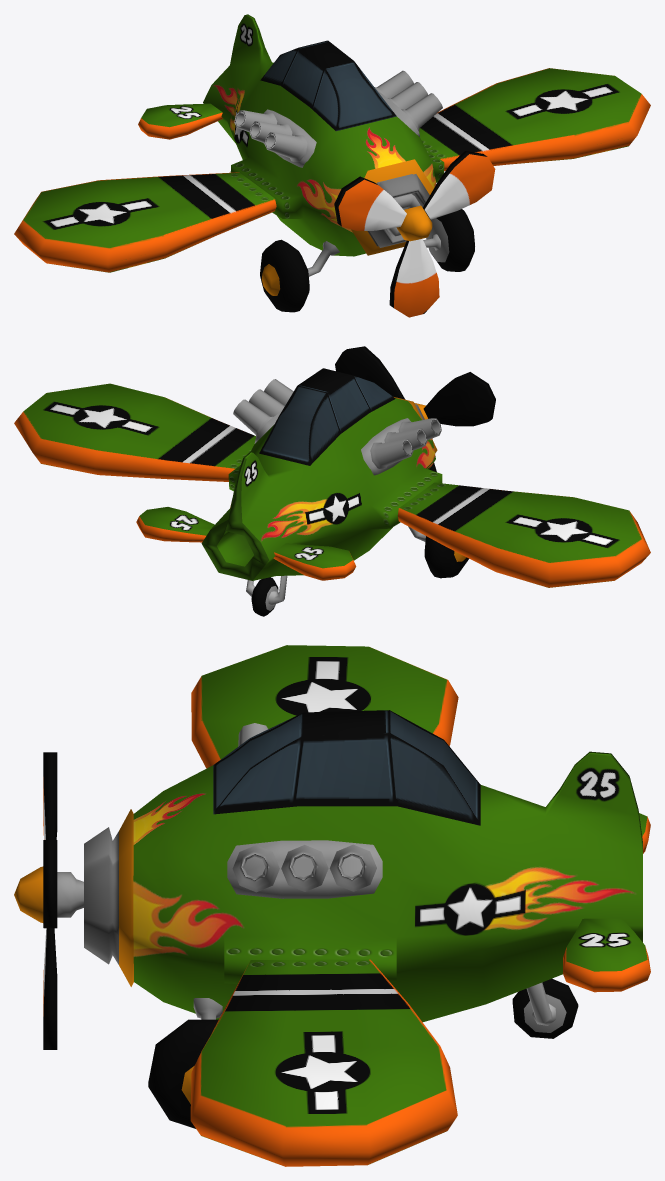
File: toon-plane-racer.fbx
The picture shows the model from 3 angles, top to bottom: view 1: azimuth 30°, elevation 25°; view 2: azimuth 150°, elevation 25°; view 3: azimuth 270°, elevation 25°; orthographic projection. The views are drawn at different scales.
Visible parts, largest first — view 1: body1, mainWing1, mainWing, propeller, muffler, FRWheel, backWing, FLWheel; view 2: body1, mainWing1, mainWing, propeller, muffler, backWing, FRWheel, RWheel, wheelHolderBack; view 3: body1, mainWing, mainWing1, muffler, propeller, backWing, FLWheel, RWheel, wheelHolderBack.
Boxes of the visible parts, box(x1,y1,x2,y2) form: body1: box(203, 14, 444, 256); mainWing1: box(14, 172, 276, 272); mainWing: box(419, 68, 650, 171); propeller: box(334, 151, 495, 317); muffler: box(234, 70, 442, 167); FRWheel: box(260, 239, 309, 312); backWing: box(138, 103, 222, 139); FLWheel: box(426, 209, 474, 271); body1: box(201, 368, 442, 580); mainWing1: box(397, 482, 650, 587); mainWing: box(14, 383, 255, 481); propeller: box(335, 346, 495, 472); muffler: box(233, 379, 441, 475); backWing: box(136, 507, 356, 580); FRWheel: box(424, 536, 468, 578); RWheel: box(251, 577, 278, 616); wheelHolderBack: box(246, 575, 287, 605); body1: box(84, 710, 642, 1022); mainWing: box(190, 959, 457, 1166); mainWing1: box(191, 645, 458, 768); muffler: box(227, 723, 382, 898); propeller: box(14, 752, 83, 1049); backWing: box(562, 813, 650, 992); FLWheel: box(148, 1019, 218, 1128); RWheel: box(512, 978, 578, 1038); wheelHolderBack: box(526, 982, 555, 1025).
Bounding box in the file's own units: 52.2 × 16.85 × 28.43.
